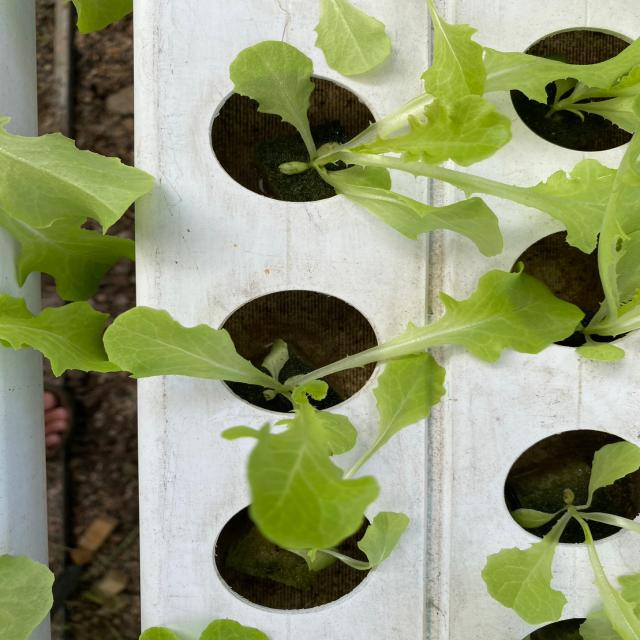Lettuce-Not-Ready-to-Harvest: (106, 257, 600, 567), (214, 23, 640, 261)
